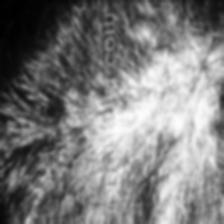Non-Cancerous Skin Condition: (120, 16, 224, 213), (0, 59, 95, 192)
